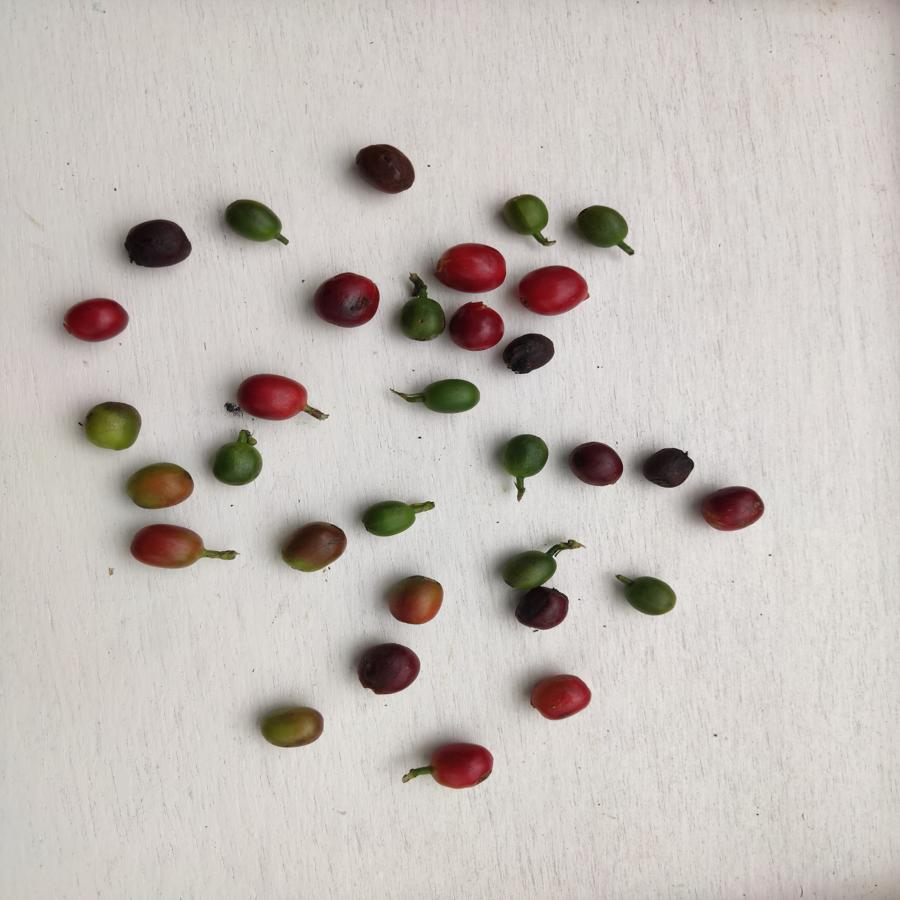Inmaduro: (574, 203, 647, 256), (223, 196, 296, 244), (390, 291, 448, 344), (622, 573, 682, 624), (358, 497, 428, 537), (419, 373, 477, 419), (506, 434, 546, 487), (216, 443, 265, 486), (504, 547, 557, 585), (503, 194, 552, 234)
Maduro: (518, 264, 591, 321), (429, 240, 507, 292), (59, 295, 135, 348), (426, 742, 495, 792), (239, 375, 307, 423), (528, 673, 593, 722), (448, 304, 505, 353)
Pinton: (123, 519, 207, 583), (119, 460, 202, 509), (285, 522, 351, 577), (256, 705, 325, 755), (78, 400, 143, 453), (385, 572, 447, 624)
Sobremaduro: (310, 268, 385, 326), (350, 137, 419, 198), (353, 640, 423, 697), (125, 219, 197, 269), (703, 486, 766, 537), (566, 440, 631, 489), (509, 588, 572, 635), (644, 441, 692, 495), (501, 334, 559, 371)
